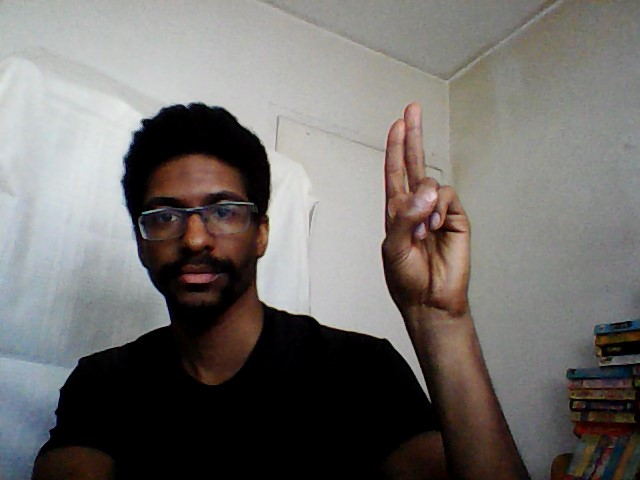u: (378, 98, 477, 315)
